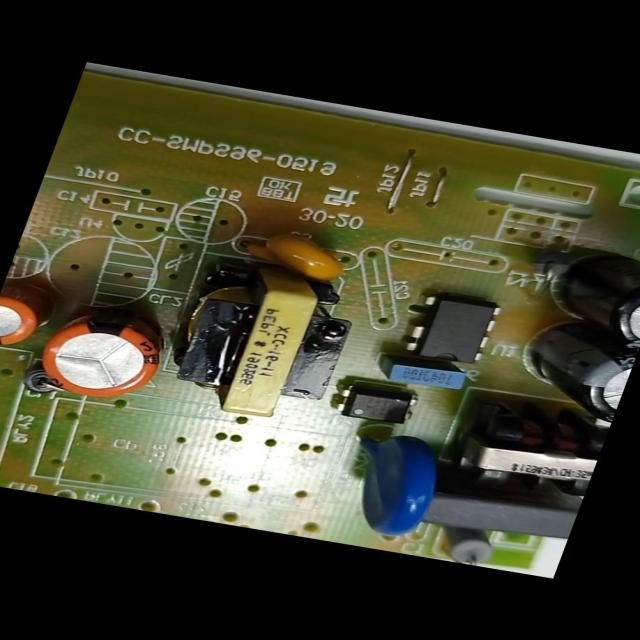Cap1: (17, 290, 183, 412)
Cap2: (0, 279, 63, 358)
Cap3: (500, 318, 639, 432)
Cap4: (521, 244, 639, 353)
MOSFET: (389, 274, 501, 368)
Mov: (323, 424, 468, 553)
Resistor: (420, 516, 510, 568)
Transformer: (149, 242, 382, 440), (430, 387, 614, 504)
